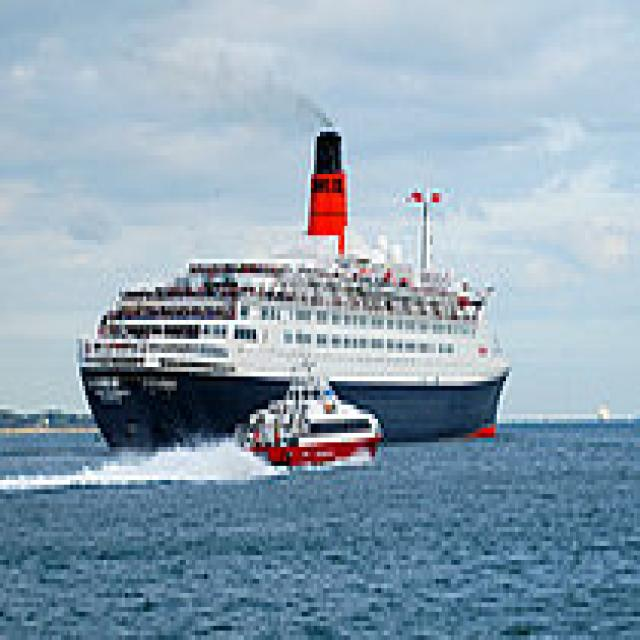Cruise: (67, 122, 509, 447)
